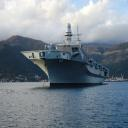Portanaves: (21, 23, 111, 89)
